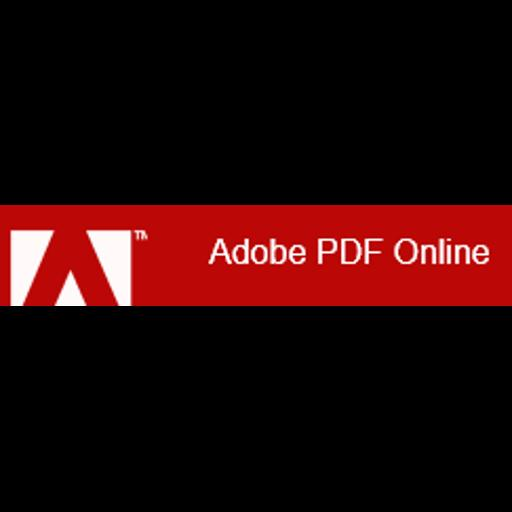Adobe: (0, 205, 512, 306)
